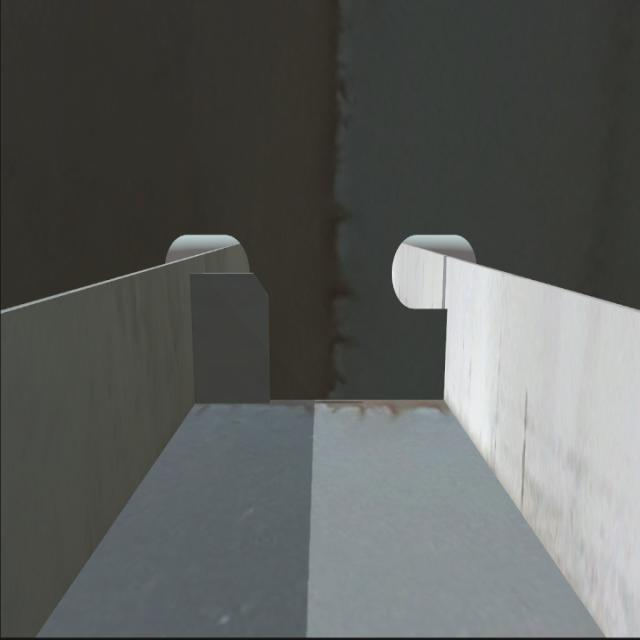fillet_yong_jeop_jang: (193, 391, 452, 406)
longi_yong_jeop_jang: (184, 268, 201, 407), (434, 302, 453, 408)
plate_CP03: (190, 273, 274, 403)
